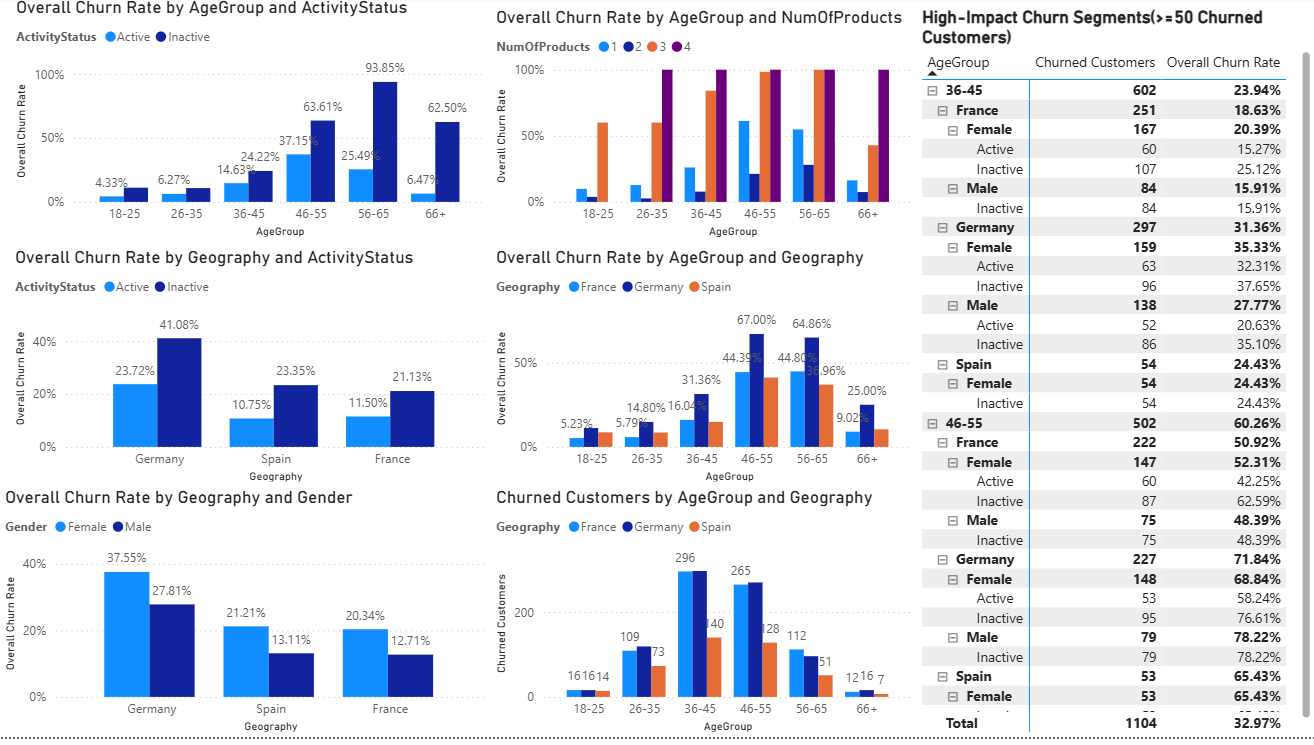

Layout of this report page (visuals, bound fields, positions):
{"tool":"powerbi","page":{"name":"Page 2","canvas":[1280,720],"ordinal":1},"visuals":[{"type":"clusteredColumnChart","fields":{"Category":["Churn_Modelling.AgeGroup"],"Y":["Churn_Modelling.Overall Churn Rate"],"Series":["Churn_Modelling.ActivityStatus"]},"box":[10.7,0,466.9,238.3],"z":0},{"type":"clusteredColumnChart","fields":{"Category":["Churn_Modelling.Geography"],"Y":["Churn_Modelling.Overall Churn Rate"],"Series":["Churn_Modelling.ActivityStatus"]},"box":[9.7,243.2,467.8,233.4],"z":1000},{"type":"clusteredColumnChart","fields":{"Category":["Churn_Modelling.Geography"],"Y":["Churn_Modelling.Overall Churn Rate"],"Series":["Churn_Modelling.Gender"]},"box":[0,476.6,477.6,243.2],"z":2000},{"type":"clusteredColumnChart","fields":{"Category":["Churn_Modelling.AgeGroup"],"Y":["Churn_Modelling.Overall Churn Rate"],"Series":["Churn_Modelling.NumOfProducts"]},"box":[477.6,9.7,414.3,228.6],"z":3000},{"type":"clusteredColumnChart","fields":{"Category":["Churn_Modelling.AgeGroup"],"Y":["Churn_Modelling.Overall Churn Rate"],"Series":["Churn_Modelling.Geography"]},"box":[477.6,243.2,414.3,233.4],"z":4000},{"type":"pivotTable","title":"High-Impact Churn Segments(>=50 Churned Customers)","fields":{"Rows":["Churn_Modelling.AgeGroup","Churn_Modelling.Geography","Churn_Modelling.Gender","Churn_Modelling.ActivityStatus"],"Values":["Churn_Modelling.Churned Customers","Churn_Modelling.Overall Churn Rate"]},"box":[891.9,9.7,388.1,710],"z":5000},{"type":"clusteredColumnChart","fields":{"Category":["Churn_Modelling.AgeGroup"],"Y":["Churn_Modelling.Churned Customers"],"Series":["Churn_Modelling.Geography"]},"box":[477.6,476.6,414.3,243.2],"z":6000}]}

Visuals, with their boxes in screenshot pixels (x1, y1, x2, y2), scaled from the page's 1280x720 canvas onto the 1314x745 screenshot:
clusteredColumnChart - Churn_Modelling.AgeGroup x Churn_Modelling.Overall Churn Rate: 11 0 490 247
clusteredColumnChart - Churn_Modelling.Geography x Churn_Modelling.Overall Churn Rate: 10 252 490 493
clusteredColumnChart - Churn_Modelling.Geography x Churn_Modelling.Overall Churn Rate: 0 493 490 744
clusteredColumnChart - Churn_Modelling.AgeGroup x Churn_Modelling.Overall Churn Rate: 490 10 916 247
clusteredColumnChart - Churn_Modelling.AgeGroup x Churn_Modelling.Overall Churn Rate: 490 252 916 493
"High-Impact Churn Segments(>=50 Churned Customers)" pivotTable: 916 10 1313 744
clusteredColumnChart - Churn_Modelling.AgeGroup x Churn_Modelling.Churned Customers: 490 493 916 744
